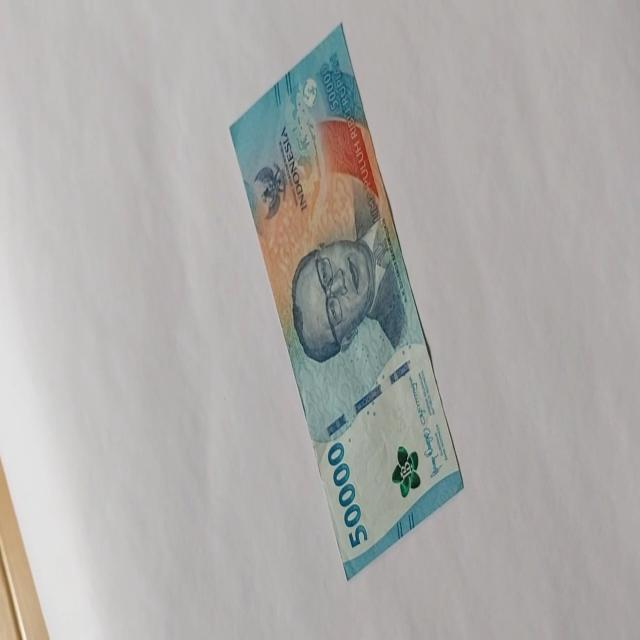lima puluh ribu rupiah: (228, 21, 464, 580), (326, 439, 368, 550)
